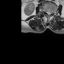CCS_normal: (48, 10, 49, 17)
LFS_stenosis: (51, 11, 52, 15)
LLS_normal: (49, 11, 51, 16)
RFS_normal: (44, 9, 46, 13)
RLS_normal: (46, 10, 48, 16)
